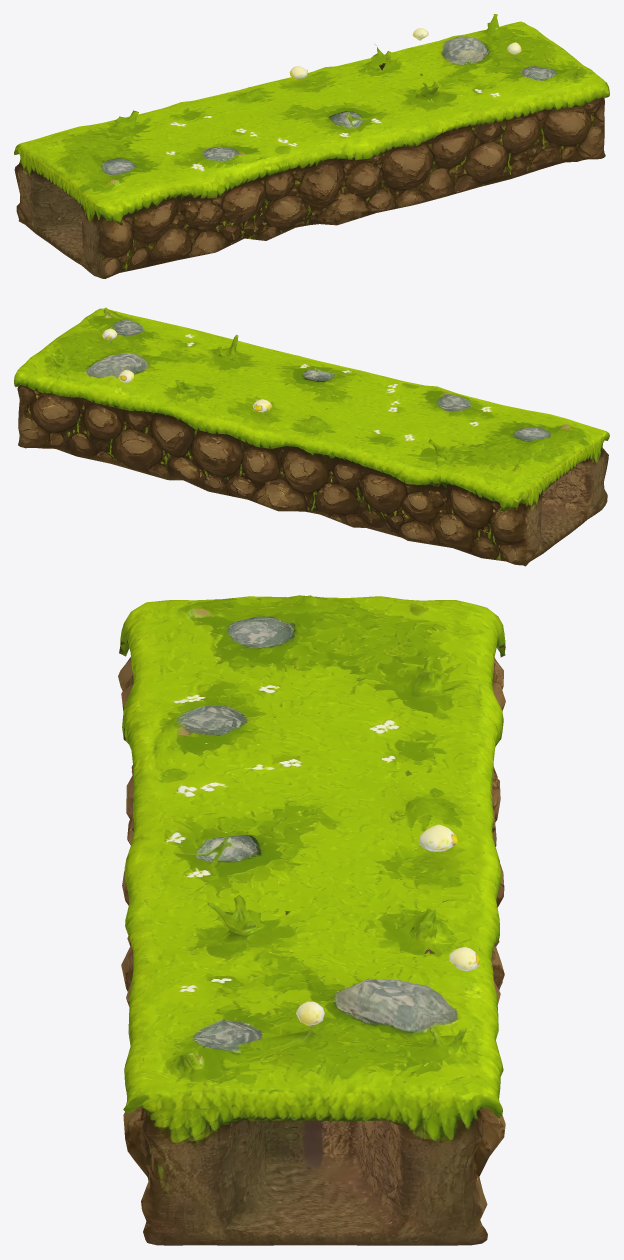
Rendered from ground.glb.
3 views of the same model, one above another, from view 1: azimuth 30°, elevation 25°; view 2: azimuth 150°, elevation 25°; view 3: azimuth 270°, elevation 25° (orthographic). The views are drawn at different scales.
Visible parts, largest first — view 1: Mesh_0; view 2: Mesh_0; view 3: Mesh_0.
Boxes of the visible parts, x1,y1,x2,y2 form: Mesh_0: [14, 14, 609, 278]; Mesh_0: [14, 307, 609, 566]; Mesh_0: [118, 595, 505, 1245].
Size of the model in its own units: 1.91 by 0.3506 by 0.633.
1 material, 1 textured.
